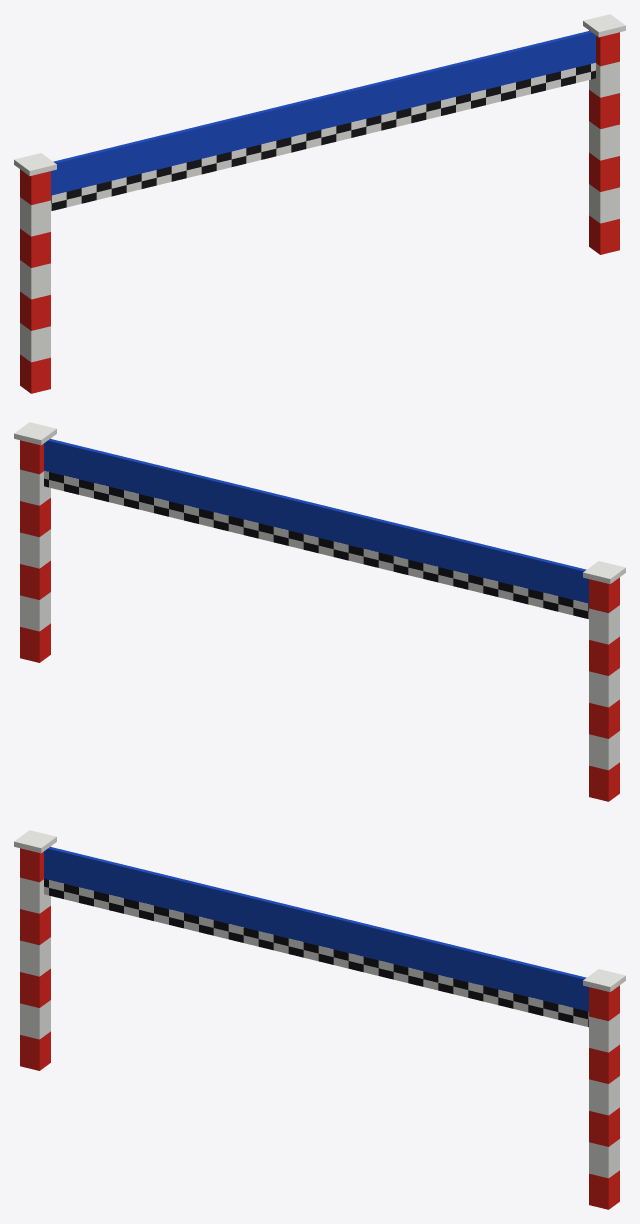
The model's file is start_gate.glb.
3 renders of one model, top to bottom at view 1: azimuth 30°, elevation 25°; view 2: azimuth 150°, elevation 25°; view 3: azimuth 330°, elevation 25°, orthographic.
Parts seen in each view (by area): view 1: Banner, Chequer, PylonLeft, PylonRight, PylonLeftCap, PylonRightCap; view 2: Banner, Chequer, PylonLeft, PylonRight, PylonLeftCap, PylonRightCap; view 3: Banner, Chequer, PylonRight, PylonLeft, PylonLeftCap, PylonRightCap.
Part boxes in pixels (left/top/right/bottom): Banner: left=51, top=31, right=595, bottom=195; Chequer: left=51, top=63, right=595, bottom=211; PylonLeft: left=20, top=169, right=50, bottom=393; PylonRight: left=589, top=30, right=619, bottom=254; PylonLeftCap: left=14, top=153, right=56, bottom=175; PylonRightCap: left=583, top=14, right=625, bottom=37; Banner: left=44, top=439, right=588, bottom=603; Chequer: left=44, top=471, right=588, bottom=619; PylonLeft: left=589, top=577, right=619, bottom=801; PylonRight: left=20, top=438, right=50, bottom=662; PylonLeftCap: left=583, top=561, right=625, bottom=583; PylonRightCap: left=14, top=422, right=56, bottom=445; Banner: left=44, top=847, right=588, bottom=1011; Chequer: left=44, top=879, right=588, bottom=1027; PylonRight: left=589, top=985, right=619, bottom=1209; PylonLeft: left=20, top=846, right=50, bottom=1070; PylonLeftCap: left=14, top=830, right=56, bottom=853; PylonRightCap: left=583, top=969, right=625, bottom=991.
Size of the model in its own units: 48.2 by 17.4 by 2.2.
